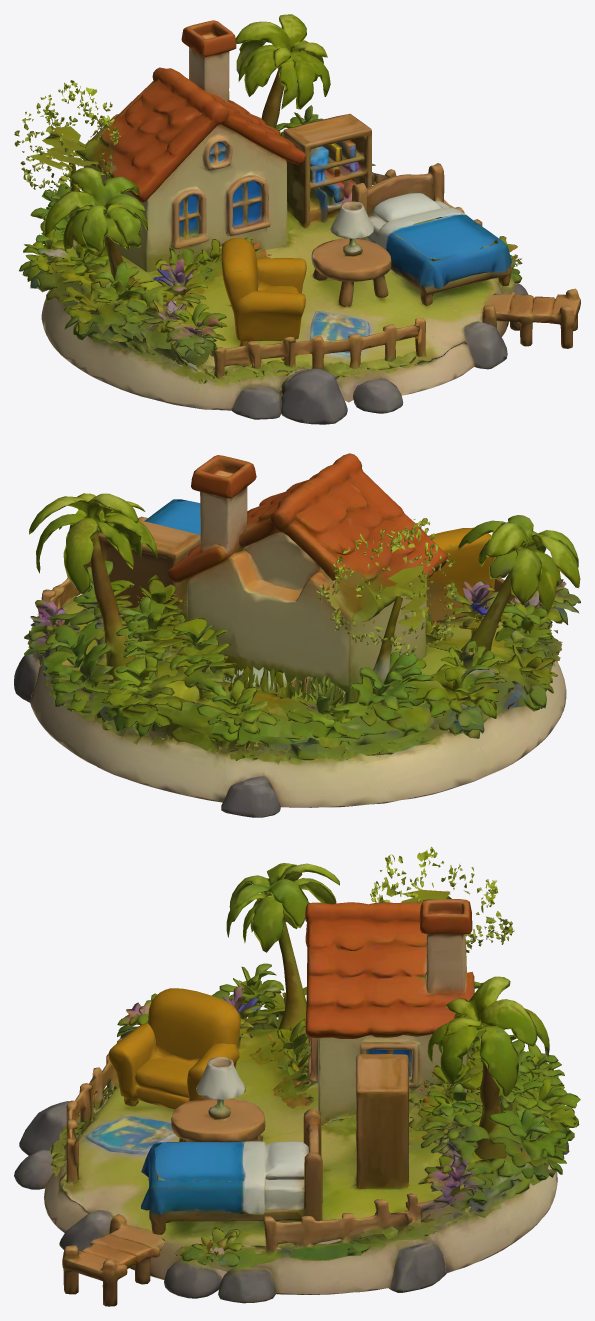
File: isl-07.glb
3 renders of one model, top to bottom at view 1: azimuth 30°, elevation 25°; view 2: azimuth 150°, elevation 25°; view 3: azimuth 270°, elevation 25°, orthographic. The views are drawn at different scales.
Parts seen in each view (by area): view 1: world; view 2: world; view 3: world.
Part boxes in pixels (x1,y1,x2,y2): world: [14, 14, 580, 424]; world: [14, 453, 580, 817]; world: [14, 847, 580, 1306].
Bounding box in the file's own units: 0.9985 × 0.51 × 0.9447.
1 material, 1 textured.
